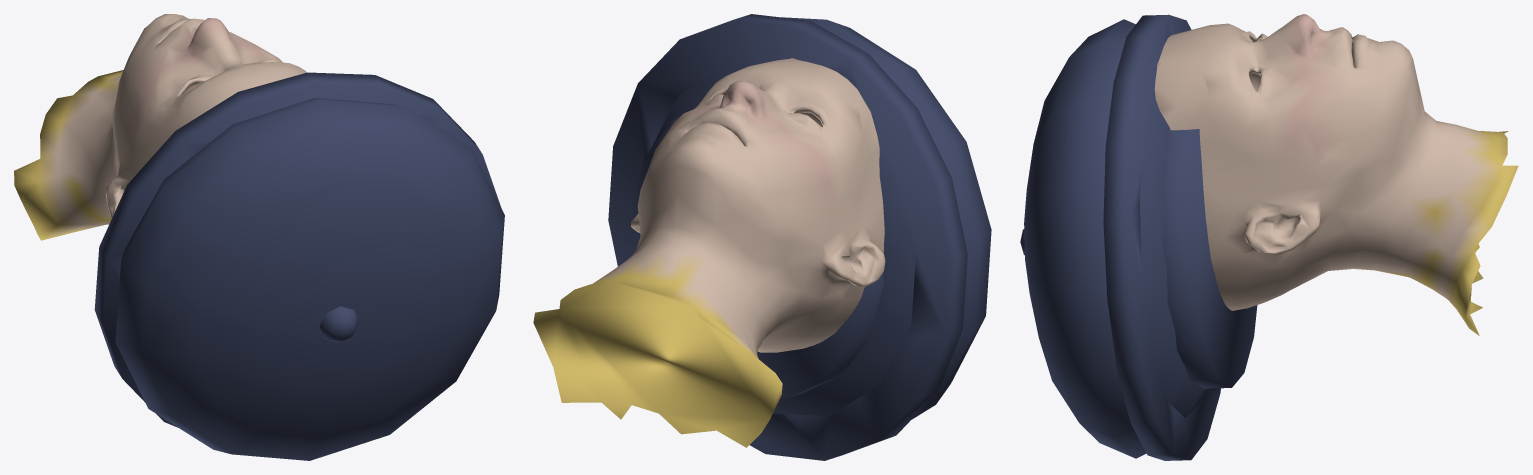
The model's file is teibi_head_authored.glb.
3 views of the same model, side by side, from view 1: azimuth 30°, elevation 25°; view 2: azimuth 150°, elevation 25°; view 3: azimuth 270°, elevation 25° (orthographic). The views are drawn at different scales.
Visible parts, largest first — view 1: piece_head; view 2: piece_head; view 3: piece_head.
Part boxes in pixels (box(x1,y1,x2,y2)): piece_head: box(14, 14, 504, 460); piece_head: box(533, 14, 991, 460); piece_head: box(1020, 14, 1518, 460).
Size of the model in its own units: 0.3228 by 0.3357 by 0.3672.
